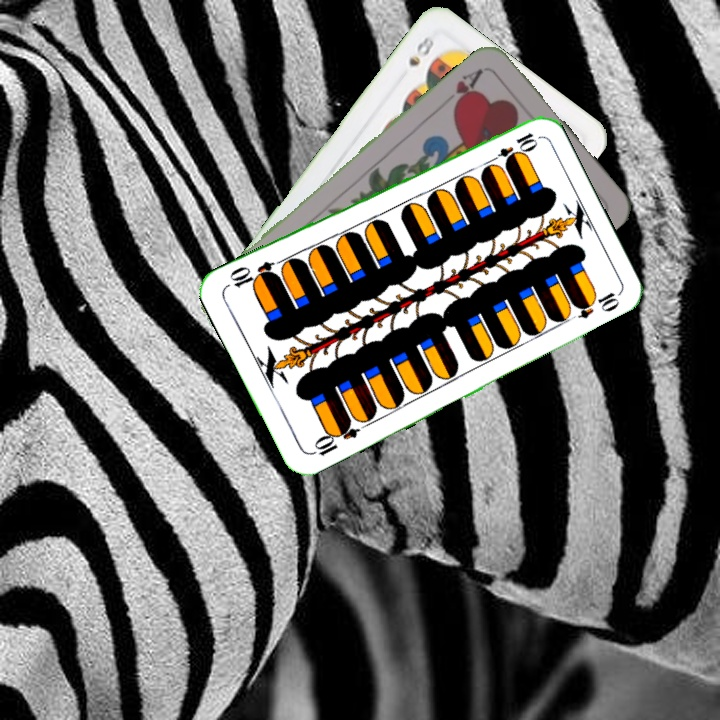E10: (306, 417, 361, 459), (484, 128, 540, 168)
HA: (438, 64, 486, 113)
S8: (404, 31, 437, 70)
